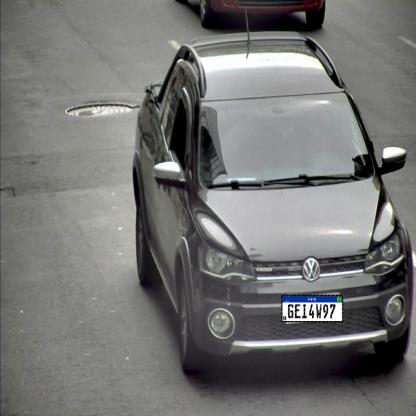PlacaM: (282, 295, 344, 322)
